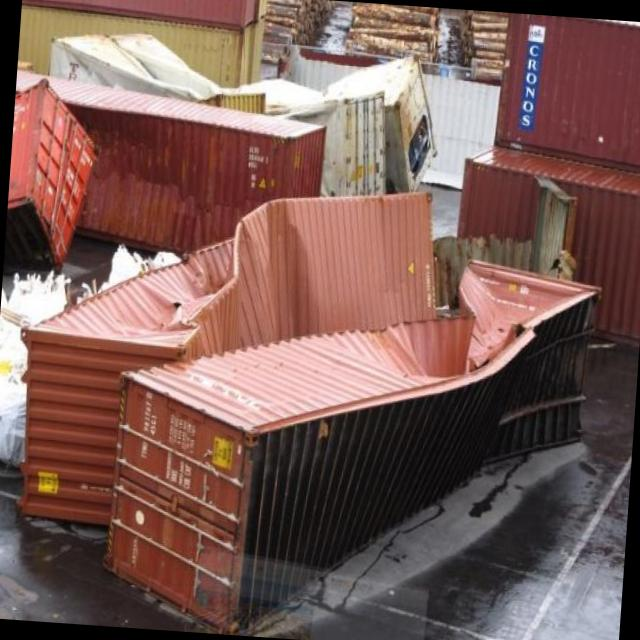Deframe_or_Dent: (158, 168, 410, 361), (428, 256, 596, 459)
